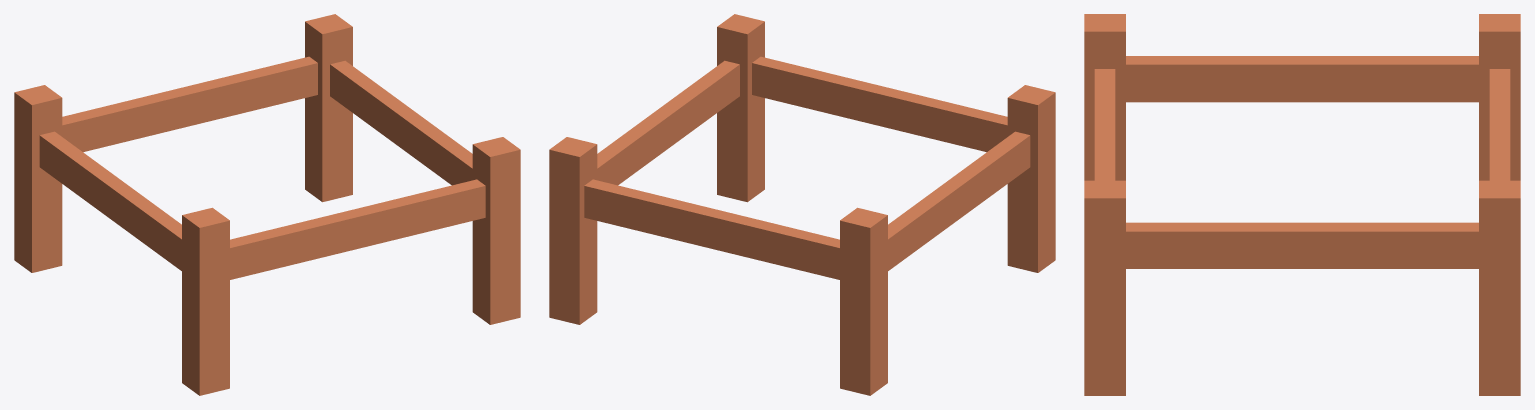
The model's file is woodStructure.dae.
3 renders of one model, left to right at view 1: azimuth 30°, elevation 25°; view 2: azimuth 150°, elevation 25°; view 3: azimuth 270°, elevation 25°, orthographic. The views are drawn at different scales.
Parts seen in each view (by area): view 1: woodStructure; view 2: woodStructure; view 3: woodStructure.
Part boxes in pixels (x1,y1,x2,y2): woodStructure: (14,14,520,395); woodStructure: (549,14,1055,395); woodStructure: (1084,14,1520,395).
Bounding box in the file's own units: 1 × 0.5 × 1.
